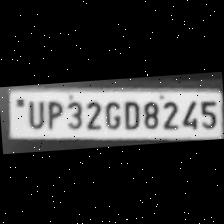2: (158, 96, 180, 130), (80, 96, 102, 129)
3: (62, 97, 82, 129)
4: (176, 96, 198, 128)
5: (196, 95, 218, 128)
8: (138, 96, 160, 129)
D: (118, 96, 140, 130)
G: (100, 96, 120, 130)
P: (42, 96, 64, 128)
U: (22, 95, 44, 128)
